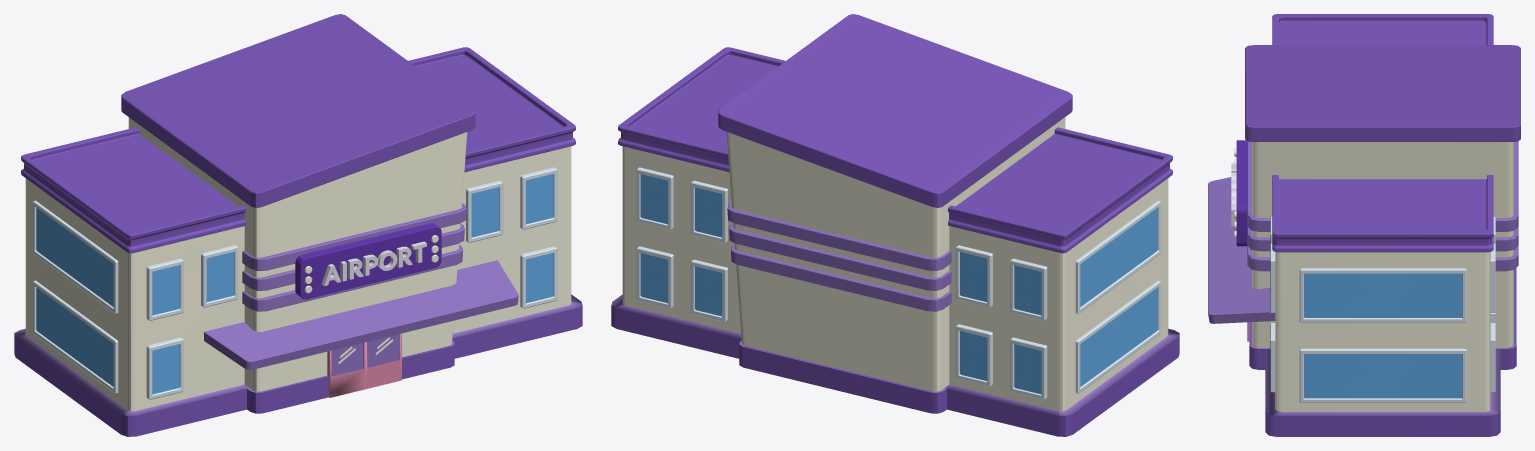
The model's file is Building4.fbx.
3 views of the same model, side by side, from view 1: azimuth 30°, elevation 25°; view 2: azimuth 150°, elevation 25°; view 3: azimuth 270°, elevation 25° (orthographic).
Parts seen in each view (by area): view 1: Building4, Airport2; view 2: Building4; view 3: Building4, Airport2.
Boxes of the visible parts, <box> form: Building4: <box>14,14,582,436</box>; Airport2: <box>321,241,426,285</box>; Building4: <box>611,14,1179,436</box>; Building4: <box>1208,14,1520,436</box>; Airport2: <box>1231,163,1236,225</box>.
Bounding box in the file's own units: 2543 × 1322 × 1488.
Materials: 1 (1 with a texture image).
